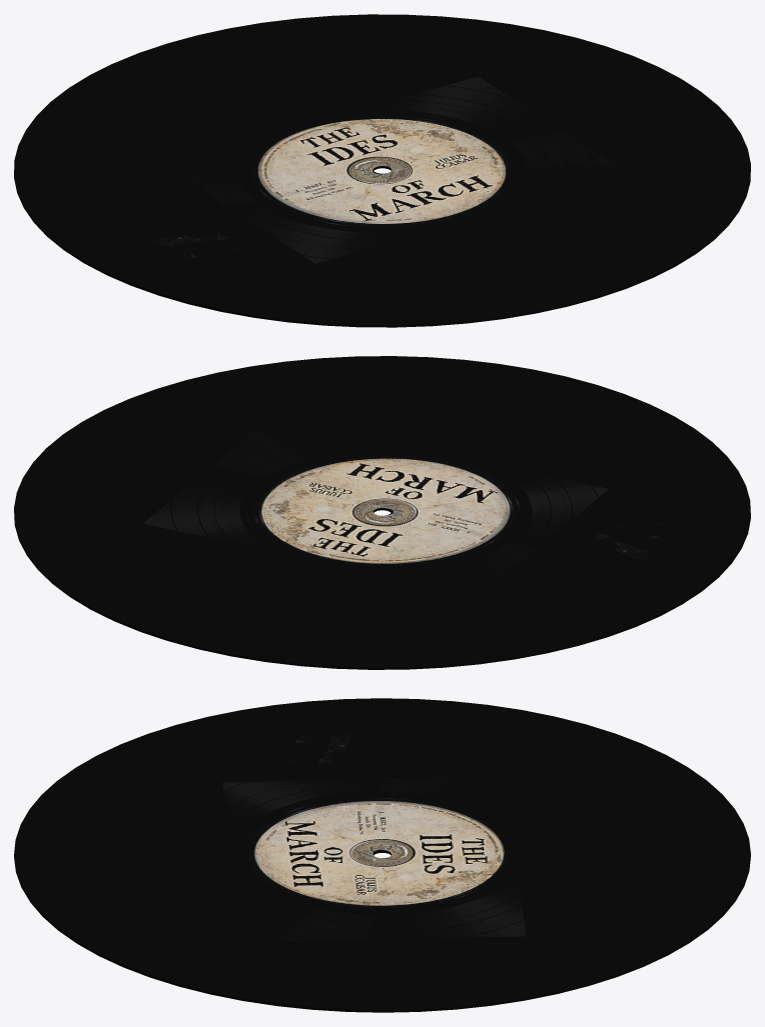
Rendered from iom-vinyl.glb.
3 views of the same model, one above another, from view 1: azimuth 30°, elevation 25°; view 2: azimuth 150°, elevation 25°; view 3: azimuth 270°, elevation 25° (orthographic).
Parts seen in each view (by area): view 1: #REC0002_33_Highway_To_Hell; view 2: #REC0002_33_Highway_To_Hell; view 3: #REC0002_33_Highway_To_Hell.
Boxes of the visible parts, <box> form: #REC0002_33_Highway_To_Hell: <box>14,14,750,327</box>; #REC0002_33_Highway_To_Hell: <box>14,356,750,669</box>; #REC0002_33_Highway_To_Hell: <box>14,698,750,1012</box>.
Size of the model in its own units: 0.3 by 0.0014 by 0.3.
Materials: 1 (1 with a texture image).
